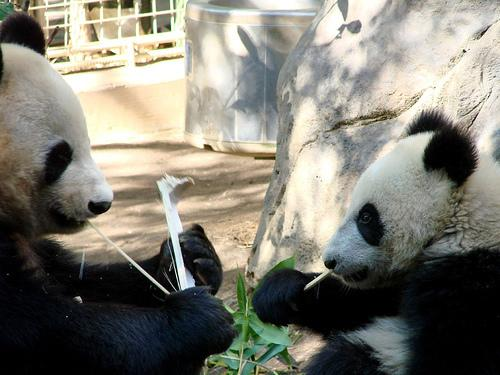panda: (0, 12, 237, 374), (252, 110, 499, 374)
